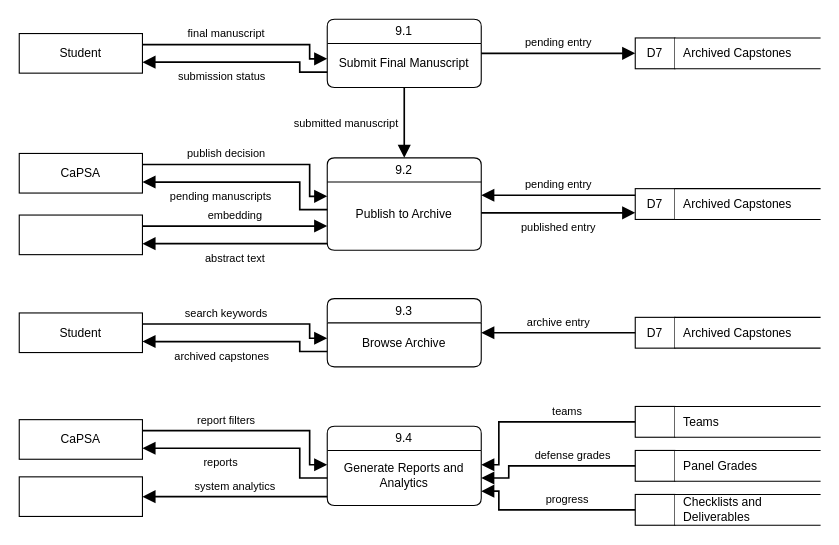
The diagram is 839 pixels wide and 545 high, and some of its shapes have lost their labels. Here are the shapes that lost their labels. From the top down, the centre of each, then its label:
At (x=80, y=234): "AI Server (Ollama)".
At (x=654, y=421): "D3".
At (x=654, y=465): "D14".
At (x=80, y=496): "Administrator".
At (x=654, y=509): "D15".
